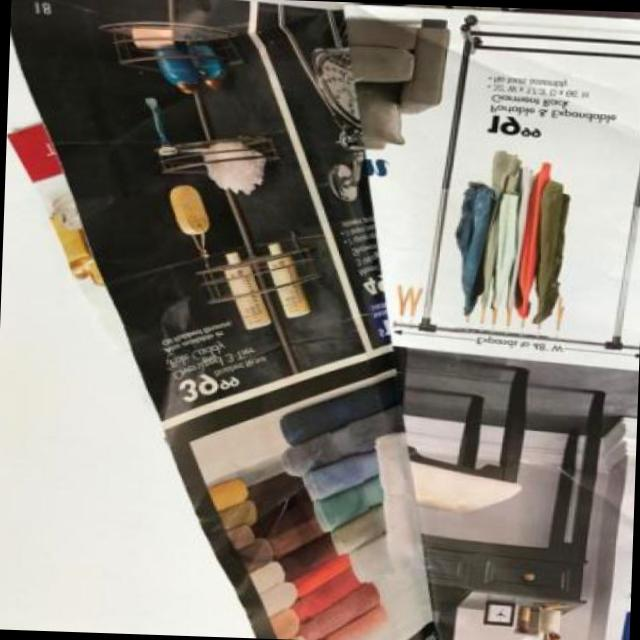cardboard paper: (6, 0, 640, 640)
